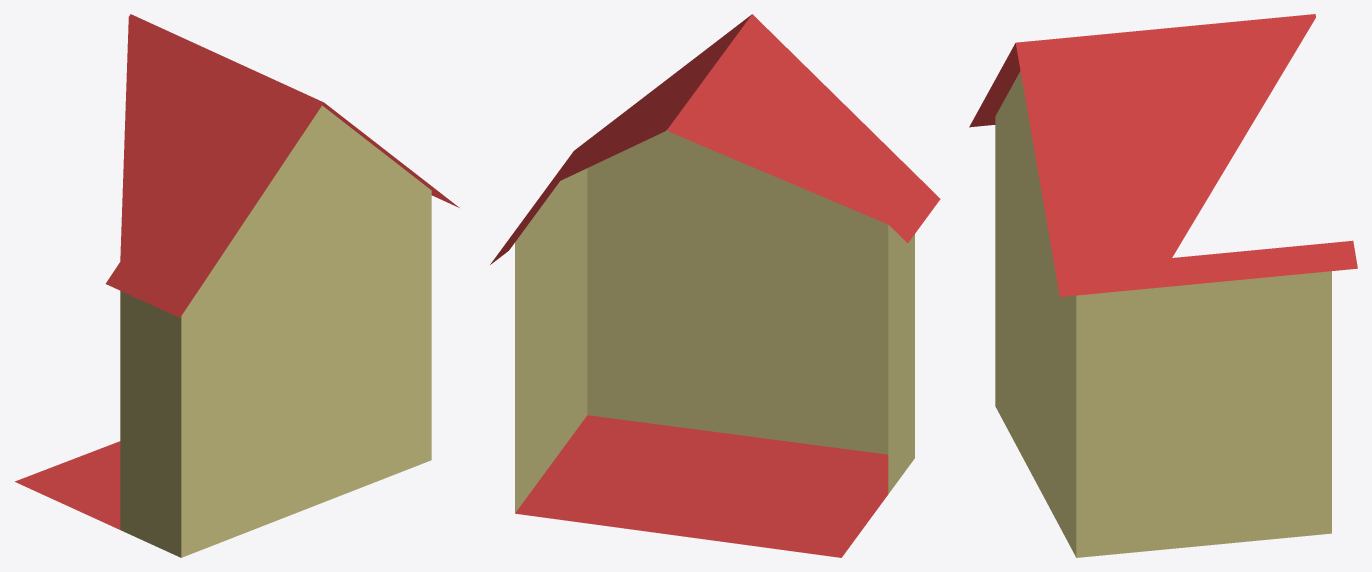
3 views of the same model, side by side, from view 1: azimuth 30°, elevation 25°; view 2: azimuth 150°, elevation 25°; view 3: azimuth 270°, elevation 25° (orthographic). The views are drawn at different scales.
Bounding box in the file's own units: 10.09 × 8.85 × 11.14.
